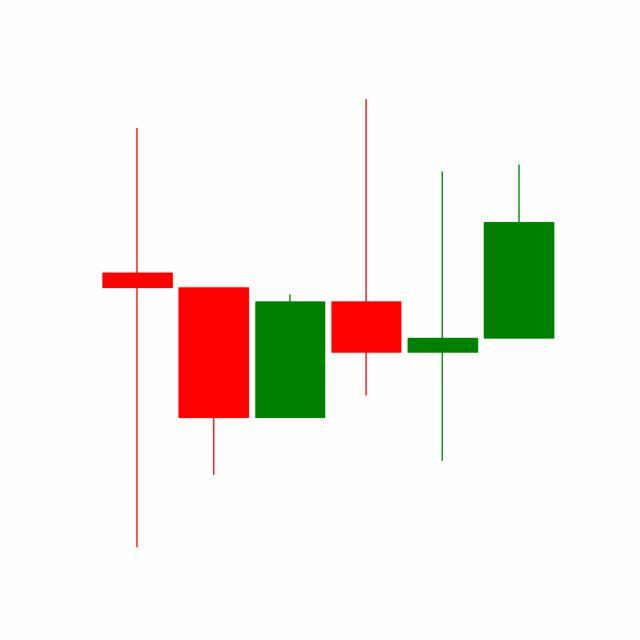Spinning Top: (404, 168, 482, 464)
